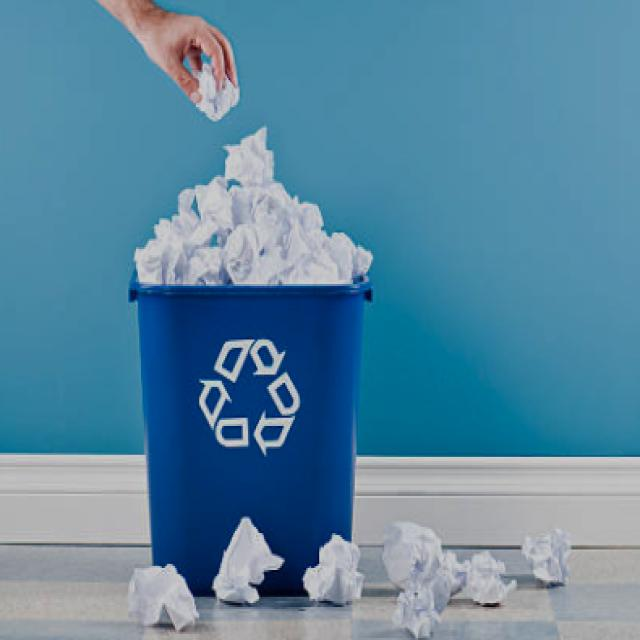KertasBekas: (126, 123, 374, 601), (131, 124, 373, 286)
